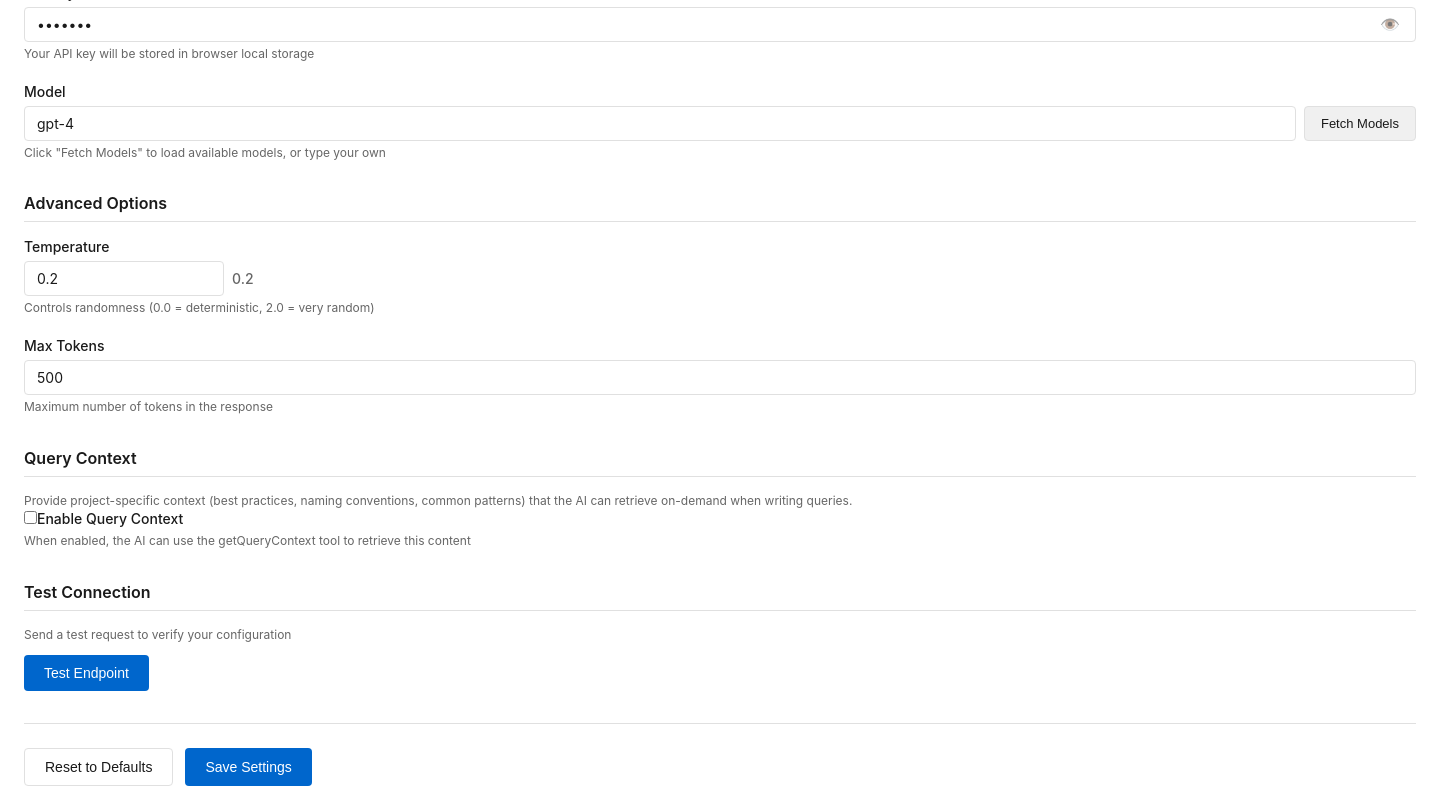
Test: AISettingsView › shows failure details for failed and thrown connection tests
(page scrolled)
Click the button with class "btn-test": (86, 673) [24,655,149,691]
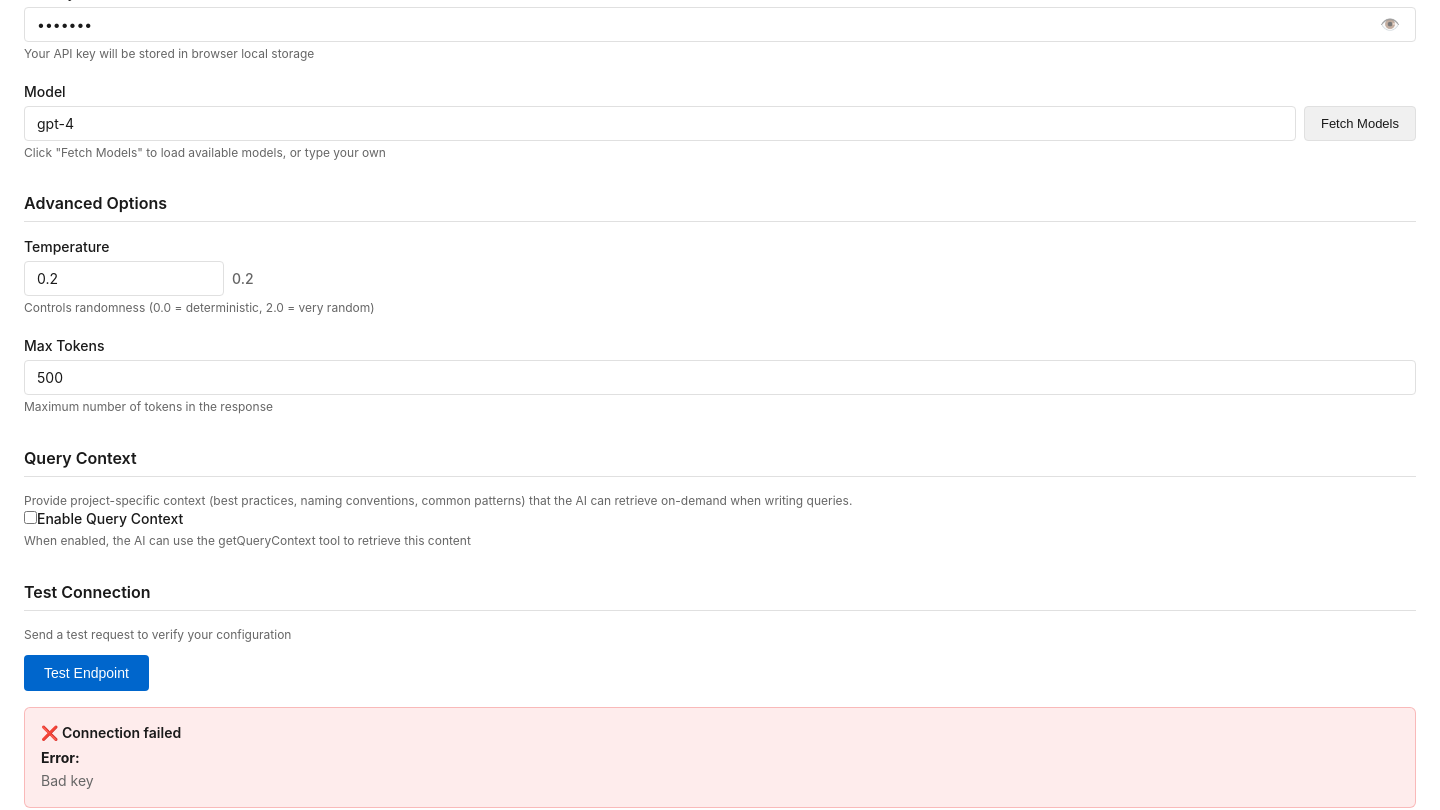
Check: the element with class "test-result" shows "Bad key", box [41,772,94,789]
Click the button with class "btn-test": (86, 673) [24,655,149,691]
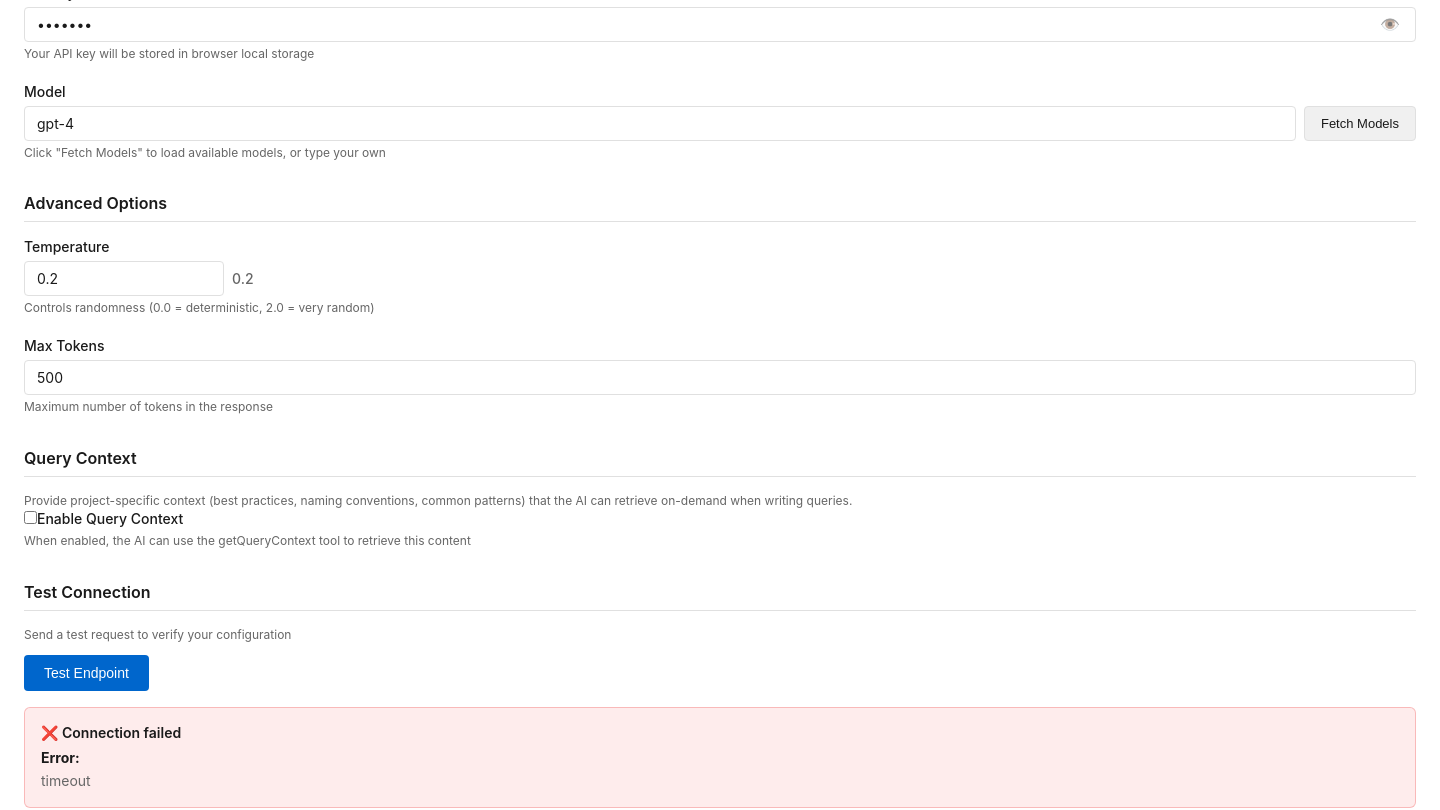
Check: the element with class "test-result" shows "timeout", box [41,772,91,789]
